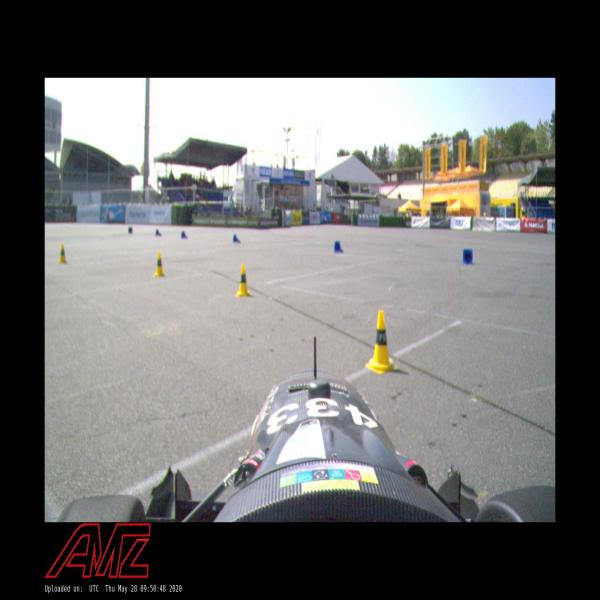blue_cone: (334, 240, 344, 255), (232, 234, 241, 244), (180, 230, 188, 240), (154, 229, 162, 237)
yellow_cone: (363, 309, 398, 376), (235, 263, 252, 298), (153, 251, 166, 278), (57, 244, 68, 264)
